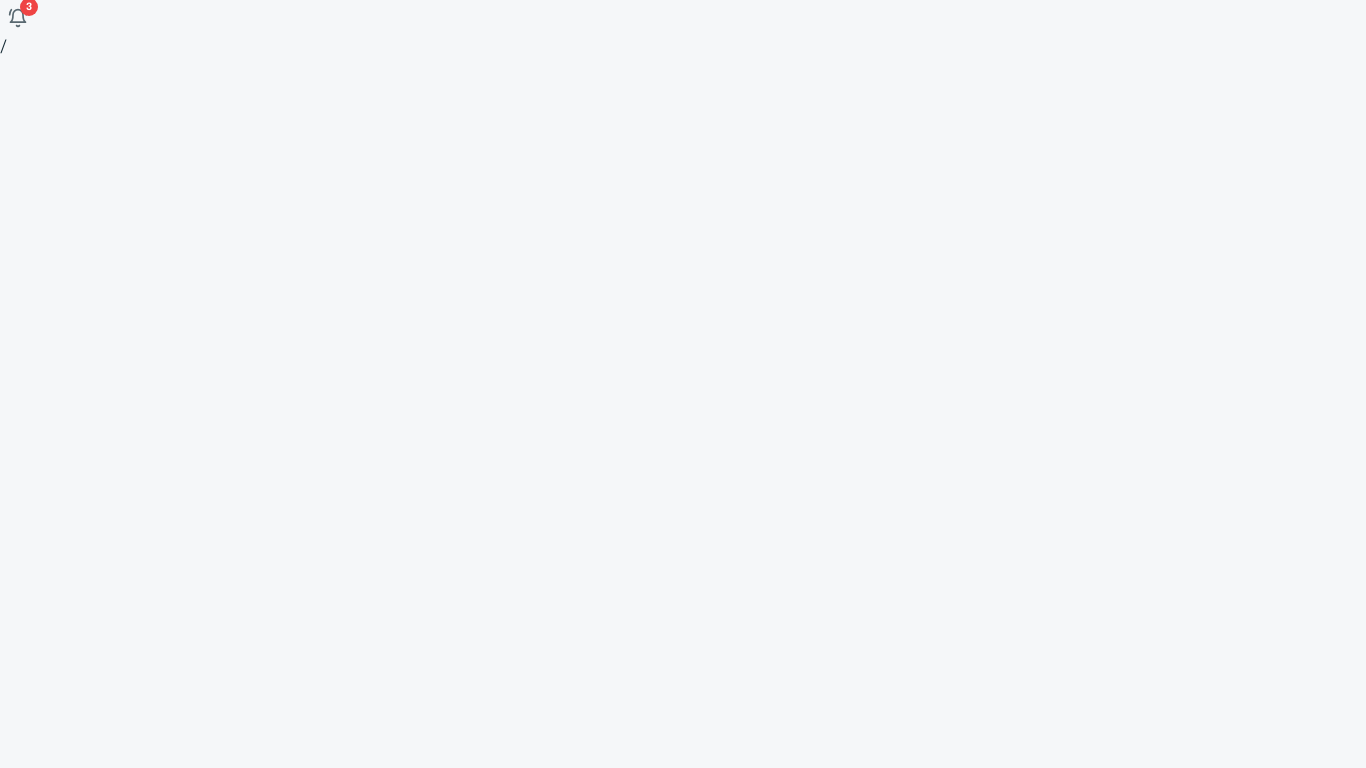
Scenario: NotificationBell › usa a contagem de nao lidas do servidor e navega pela rota da notificacao
The image size is (1366, 768).
Step 1. Click the button named "3 não lidas" → (18, 18), box [0, 0, 36, 36]
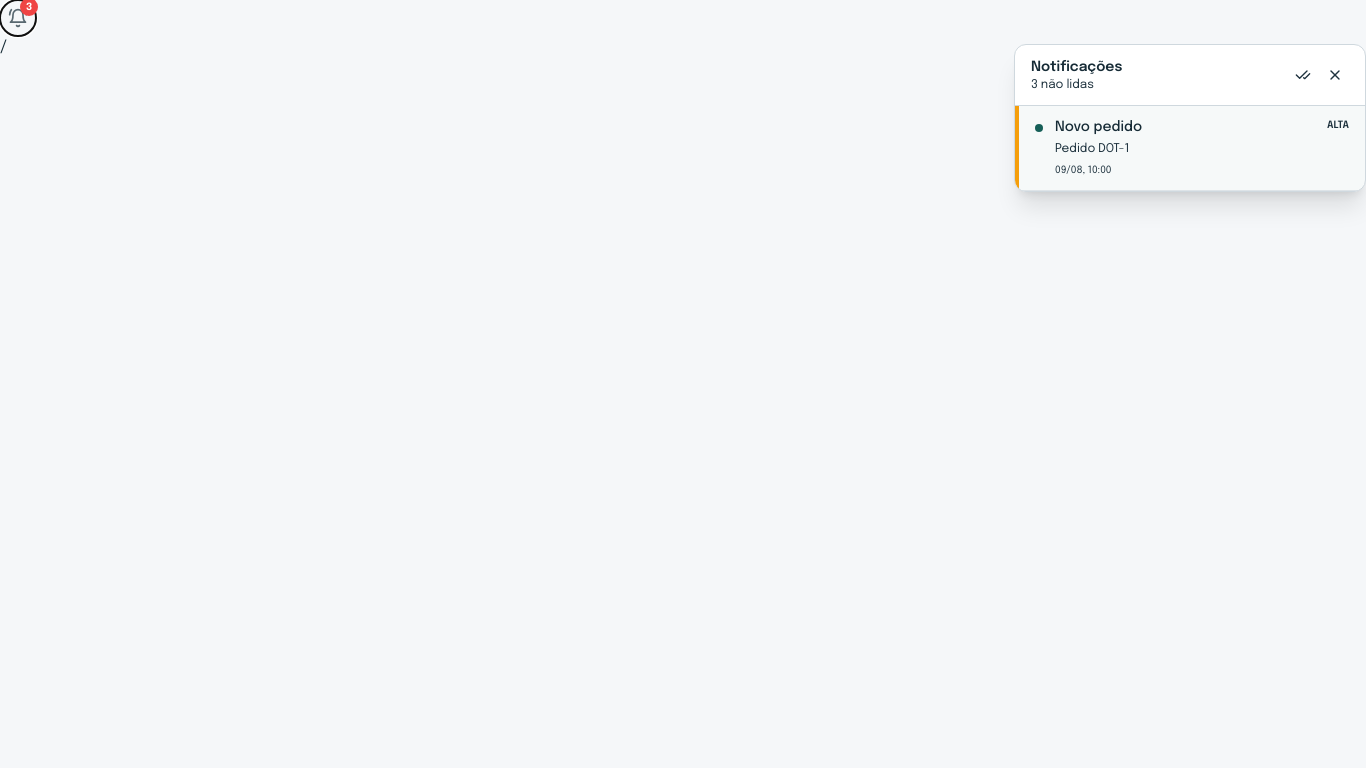
Result: the text "Novo pedido" is shown at [1055, 118, 1142, 137]
Step 2. Click the button "Novo pedido Alta Pedido DOT-1 09/08, 10:00" → (1099, 127), box [1015, 106, 1365, 191]
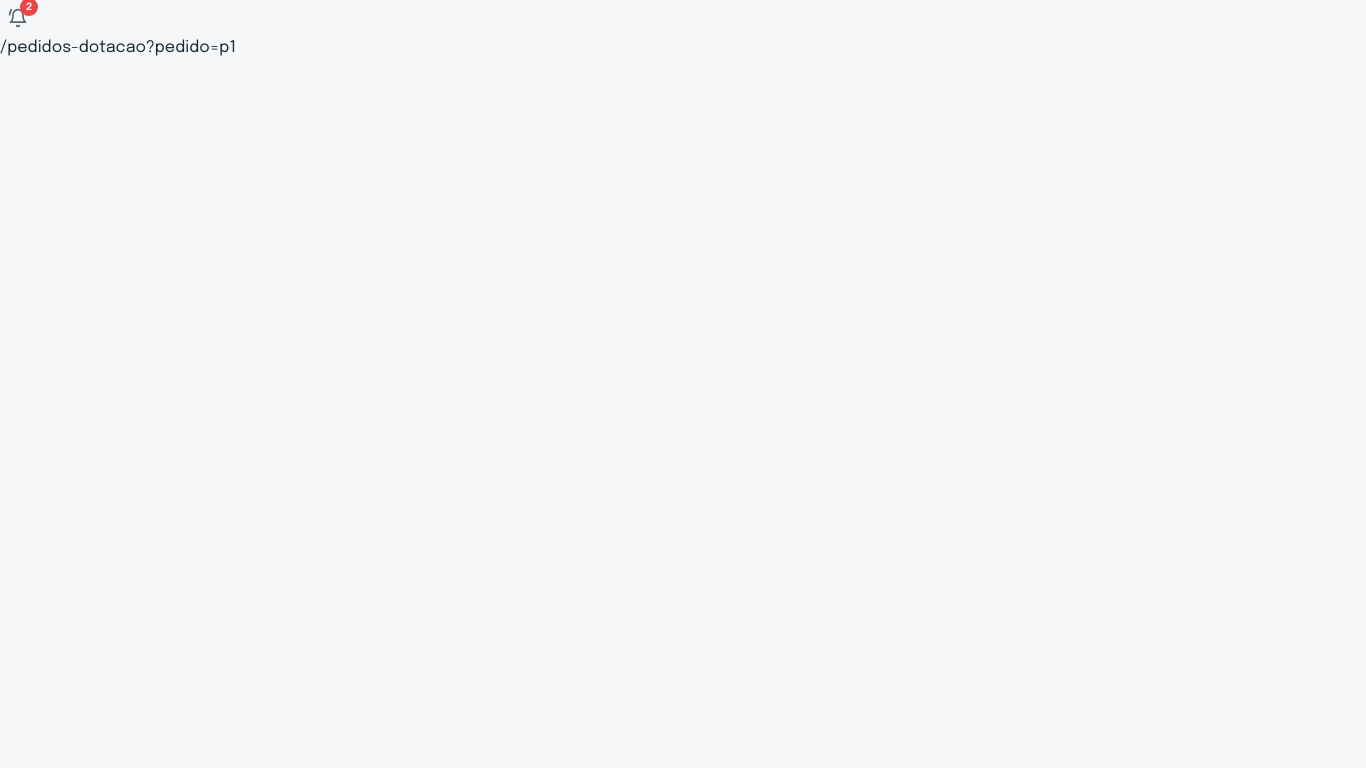
Result: the text with test id "current-path" reads "/pedidos-dotacao?pedido=p1" at [0, 39, 236, 56]
